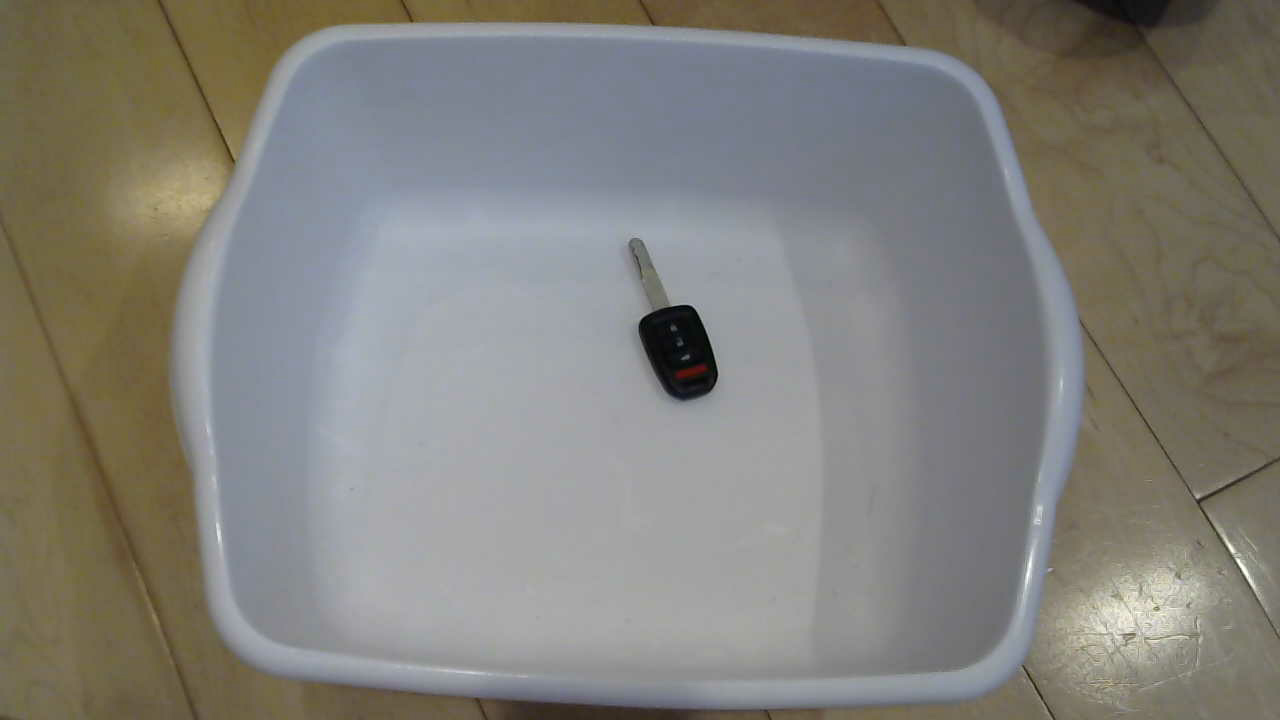key: (599, 240, 753, 414)
